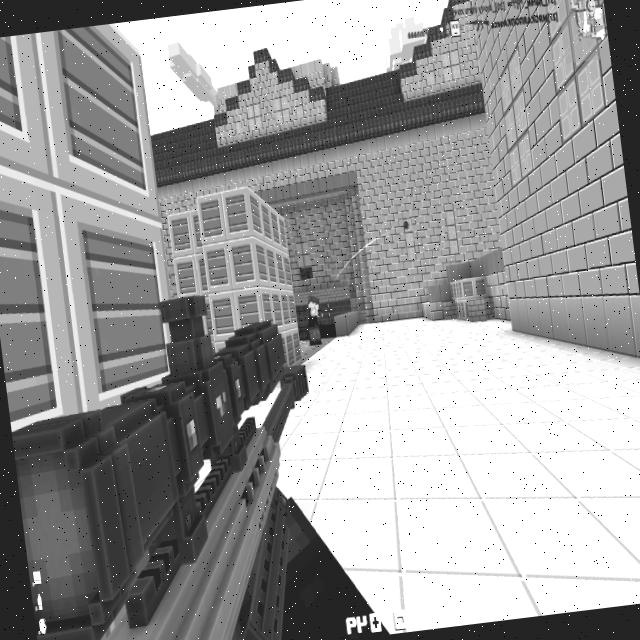Head: (306, 293, 320, 310)
Player: (303, 294, 327, 345)
